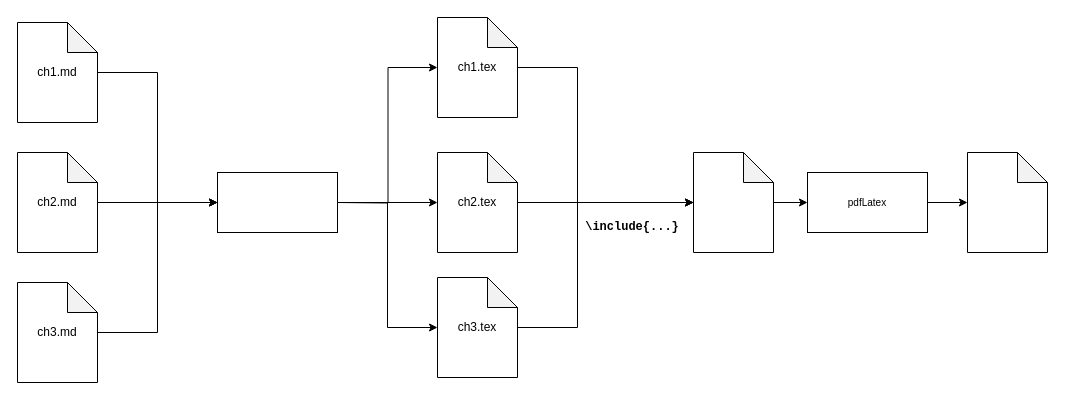
Some shapes in this 1065 by 400 pixel diagram are drawn without their labels. Here are the shapes that lost their labels. From the top down, the centre of each, then its label:
At point 277,202: "pandoc md2tex".
At point 733,202: "main.tex".
At point 1007,202: "main.pdf".
